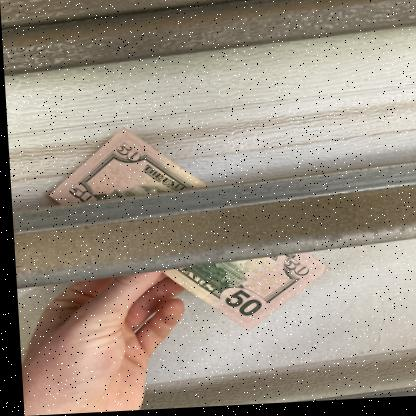fifty-back: (44, 128, 329, 329)
